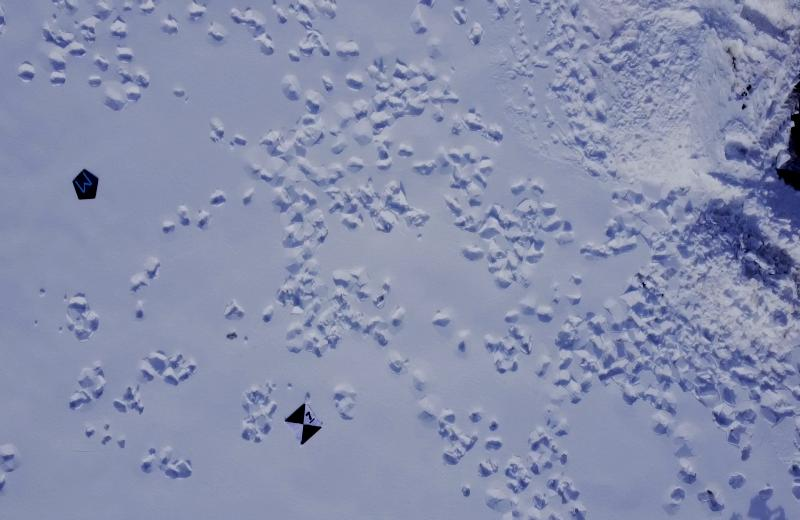Pentagon: (68, 163, 103, 206)
